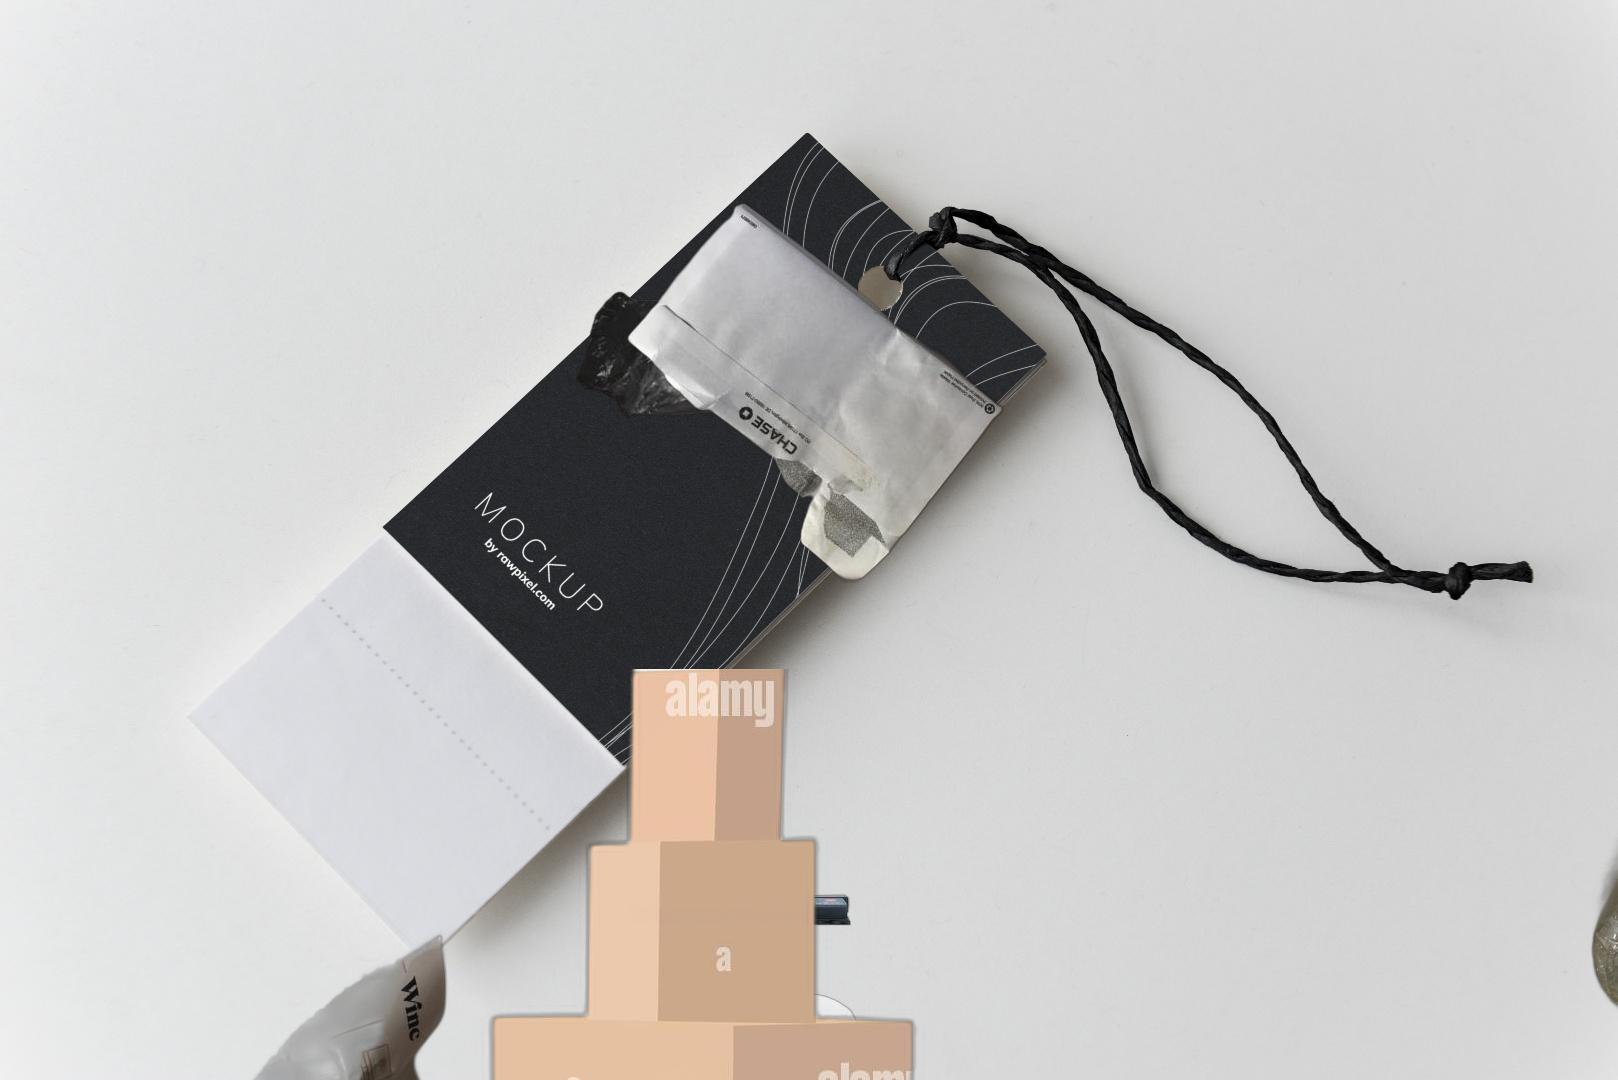battery: (626, 891, 852, 928)
paper: (623, 200, 1006, 583), (182, 925, 492, 1080)
plastic-bag: (575, 289, 761, 419)
plastic-bottles: (1588, 595, 1618, 1031)
trash: (699, 991, 898, 1080)
trashbox-cardboard: (448, 669, 939, 1080)
